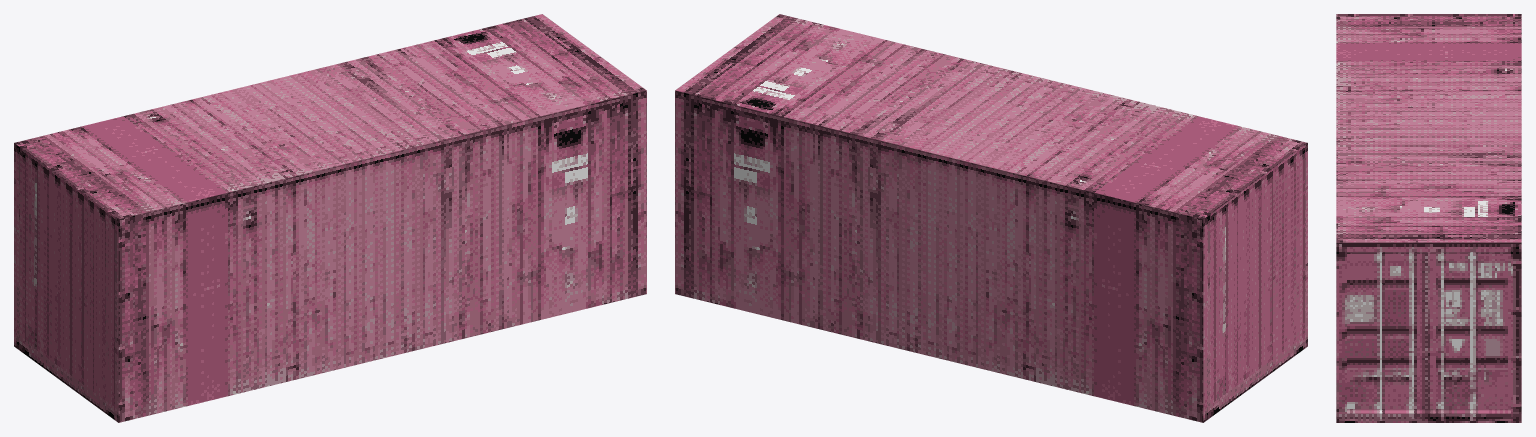
File: Container_Purple.glb
3 views of the same model, side by side, from view 1: azimuth 30°, elevation 25°; view 2: azimuth 150°, elevation 25°; view 3: azimuth 270°, elevation 25° (orthographic). The views are drawn at different scales.
Visible parts, largest first — view 1: Container Purple; view 2: Container Purple; view 3: Container Purple.
Boxes of the visible parts, x1=… form: Container Purple: x1=14, y1=14, x2=646, y2=422; Container Purple: x1=675, y1=14, x2=1307, y2=422; Container Purple: x1=1336, y1=14, x2=1521, y2=422.
Size of the model in its own units: 2.74 by 1.01 by 0.9388.
1 material, 1 textured.
